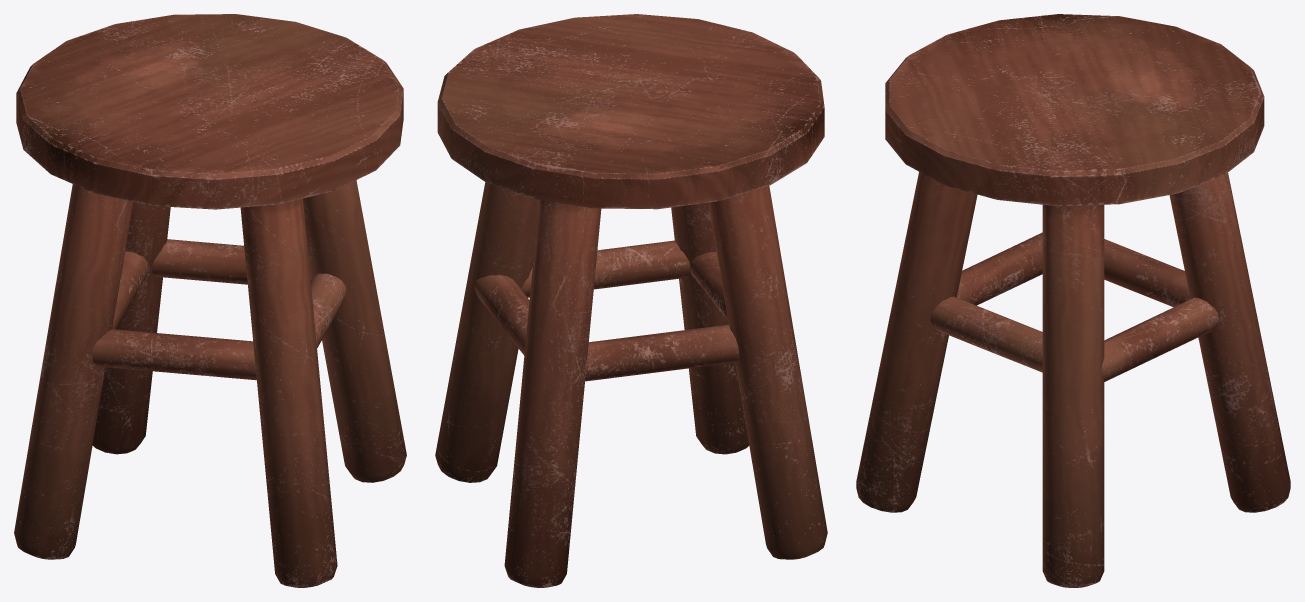
The model's file is tabouret.fbx.
3 renders of one model, left to right at view 1: azimuth 30°, elevation 25°; view 2: azimuth 150°, elevation 25°; view 3: azimuth 270°, elevation 25°, orthographic.
Visible parts, largest first — view 1: Cylinder.007; view 2: Cylinder.007; view 3: Cylinder.007.
Boxes of the visible parts, x1,y1,x2,y2 form: Cylinder.007: (14,14,406,587); Cylinder.007: (435,14,827,587); Cylinder.007: (856,14,1290,587).
Size of the model in its own units: 0.4827 by 0.5091 by 0.4827.
